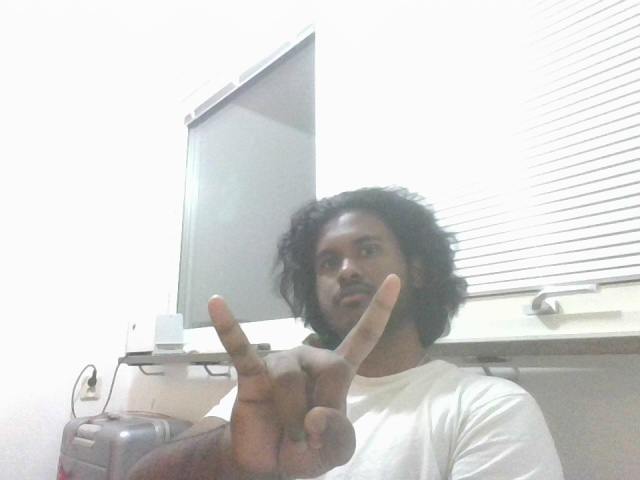I Love You: (185, 273, 412, 476)
